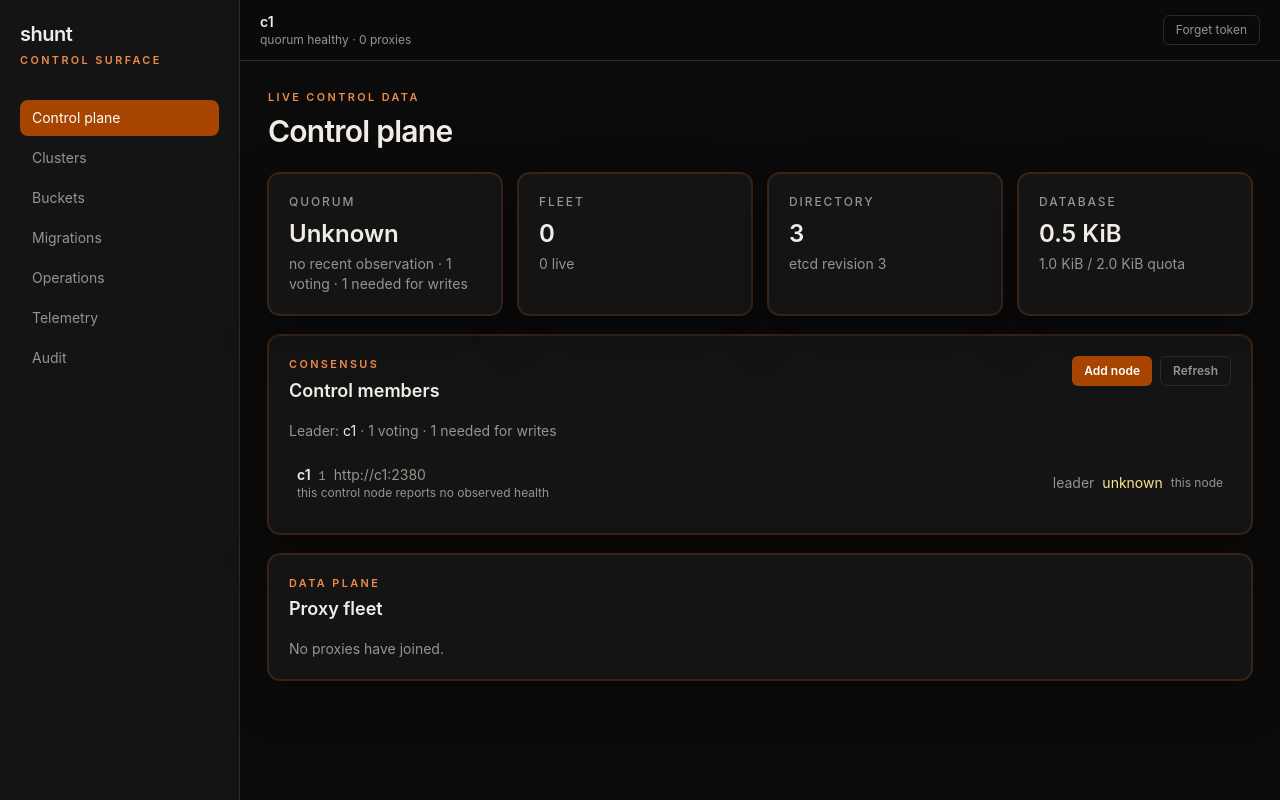
Test: requires a successful unchanged probe before saving a cluster
Expected: the heading "Control members" is shown, [289,377,440,405]
Click the button "Clusters" at coordinates (120, 158), box [20,140,219,176]
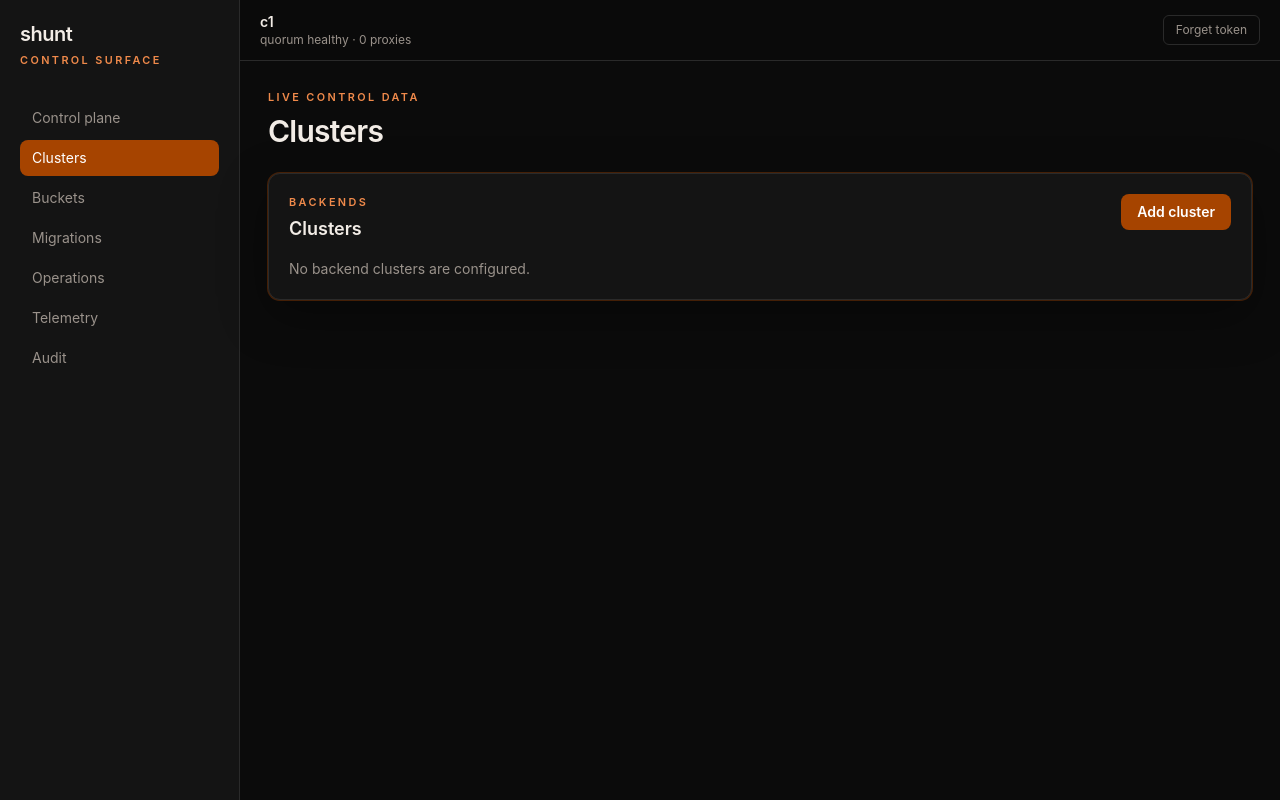
Click the button "Add cluster" at coordinates (1176, 212), box [1121,194,1231,230]
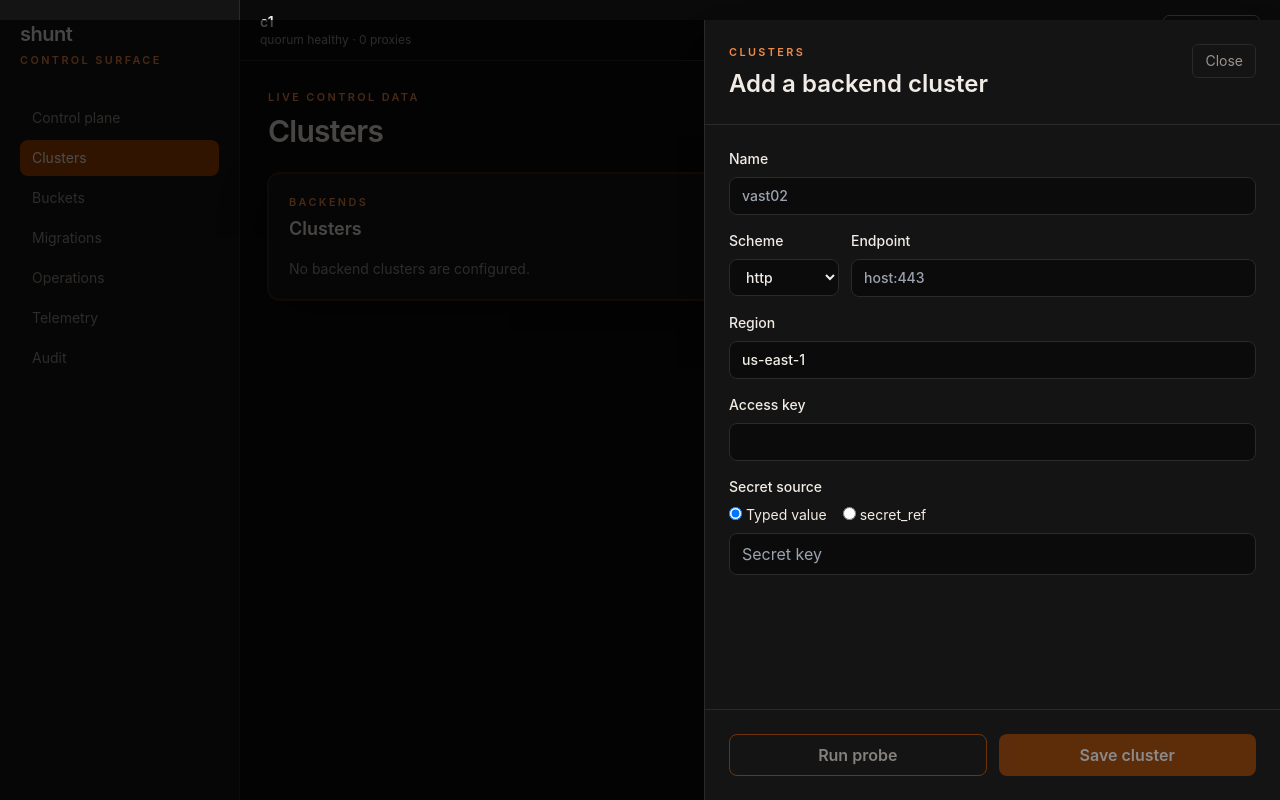
Type "target" into the field labelled "Name" at coordinates (992, 196), box [729,177,1256,215]
Type "target:9000" into the field labelled "Endpoint" at coordinates (1054, 278), box [851,259,1256,297]
Type "AK" into the field labelled "Access key" at coordinates (992, 442), box [729,423,1256,461]
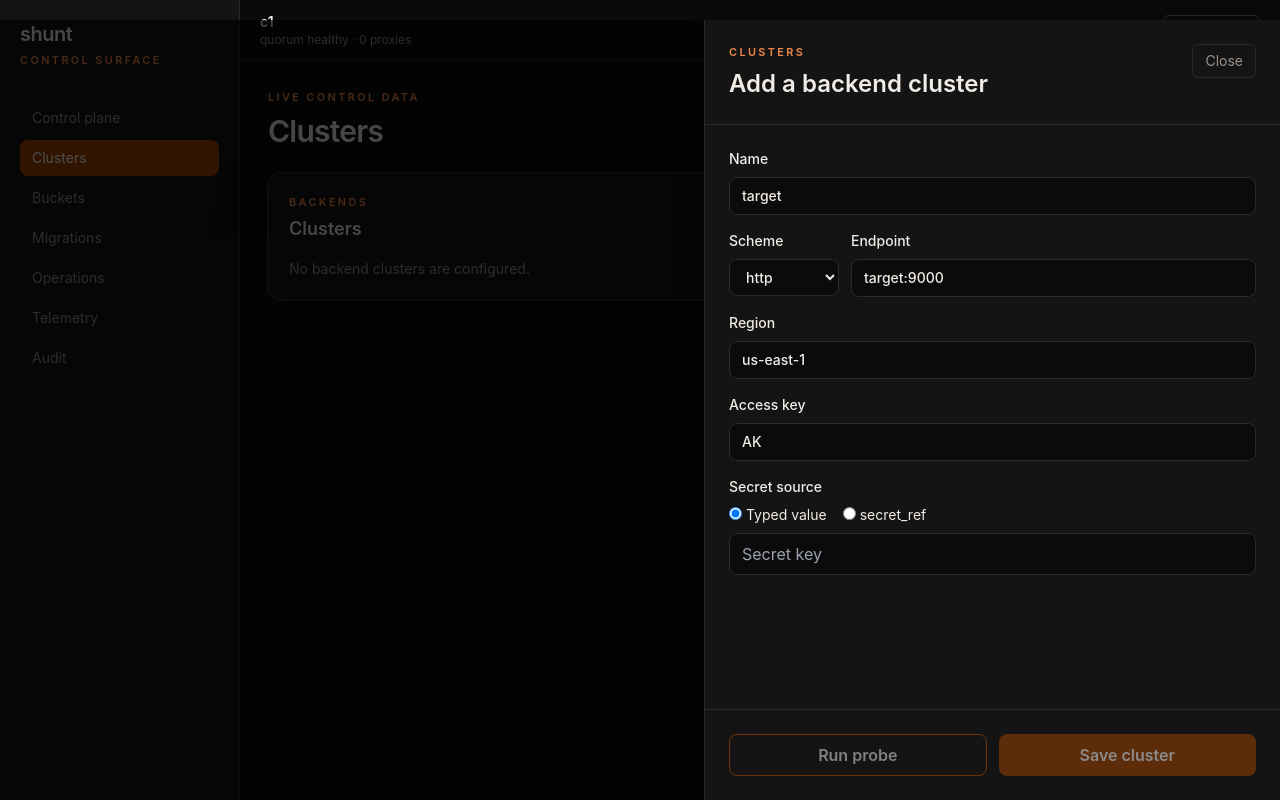
Type "secret" into the password field with placeholder "Secret key" at coordinates (992, 554), box [729,533,1256,575]
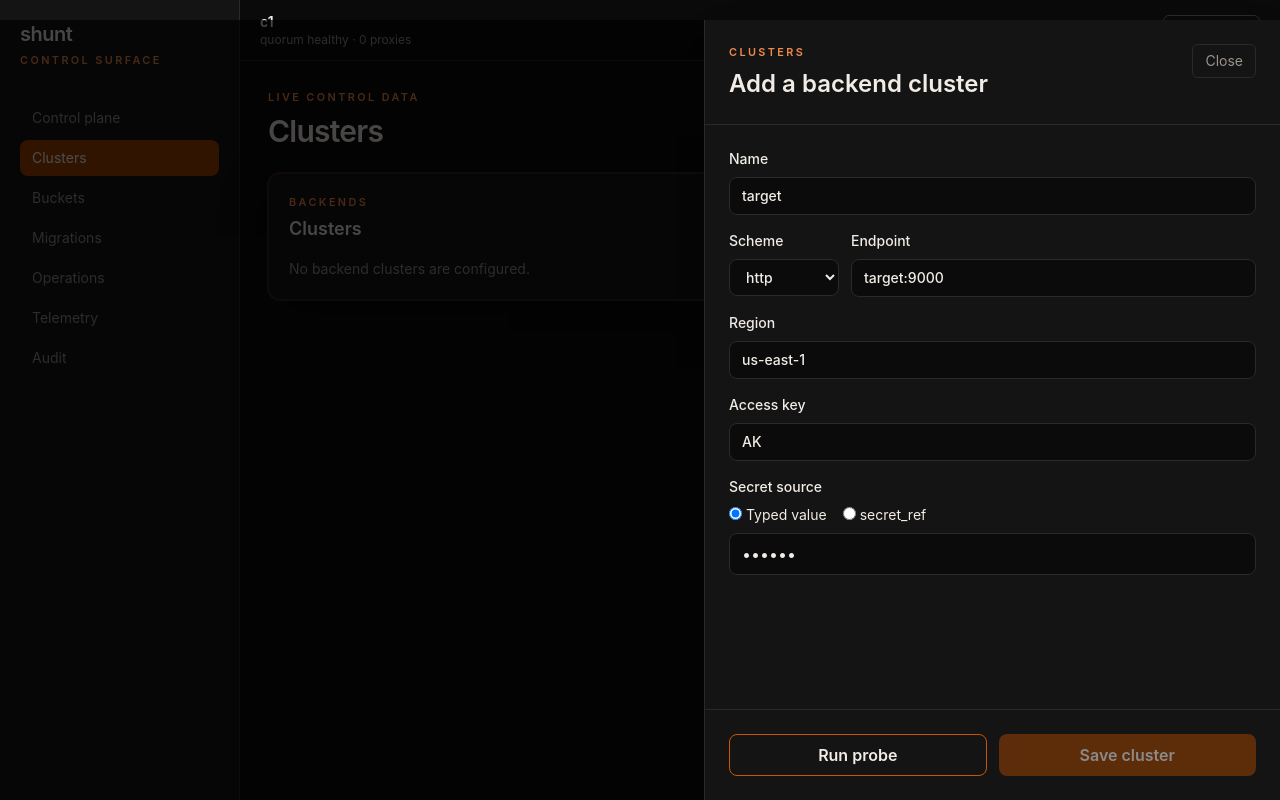
Expected: the button "Save cluster" is disabled, [998,734,1256,776]
Click the button "Run probe" at coordinates (858, 755), box [729,734,986,776]
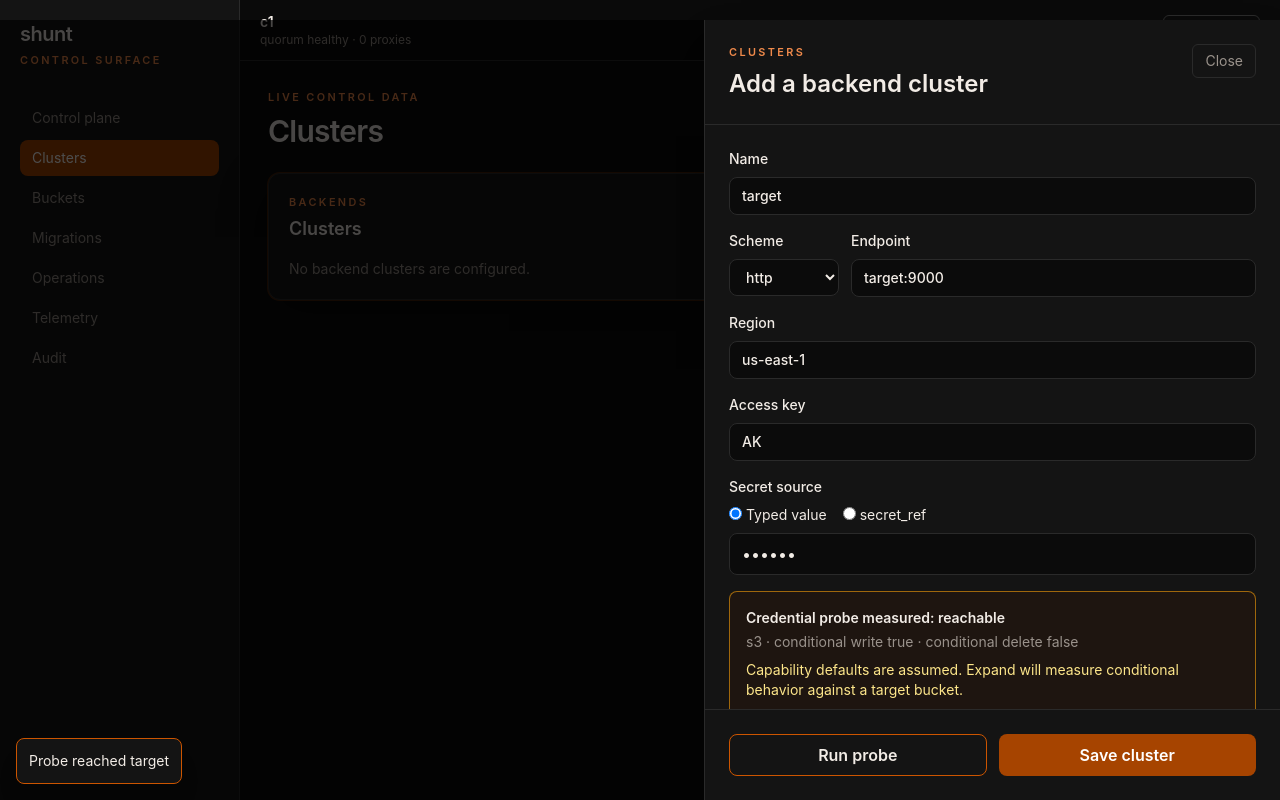
Expected: the text "Credential probe measured: reachable" is shown, [746,609,1005,626]
Expected: the text "Capability defaults are assumed" is shown, [746,661,1179,698]
Click the button "Save cluster" at coordinates (1127, 755), box [998,734,1256,776]
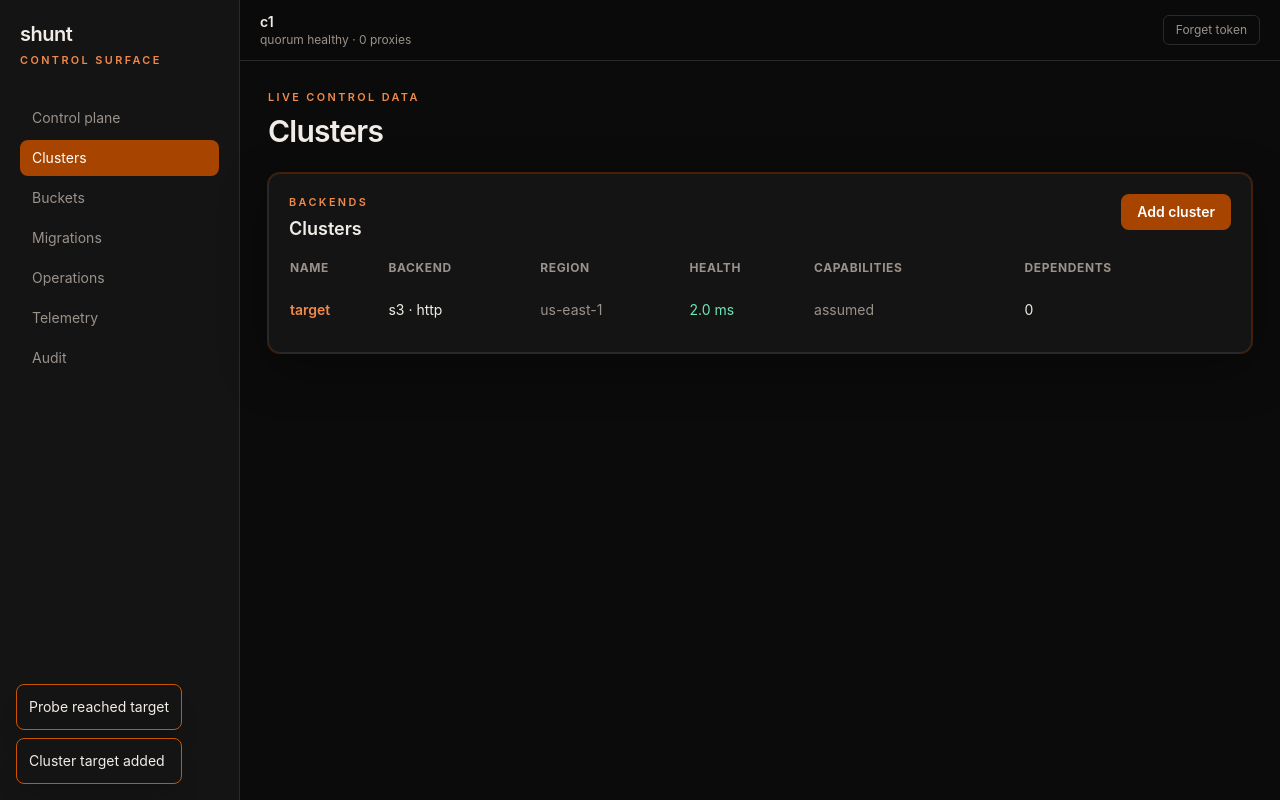
Expected: the button "Cluster target added" is shown, [16,738,182,784]
